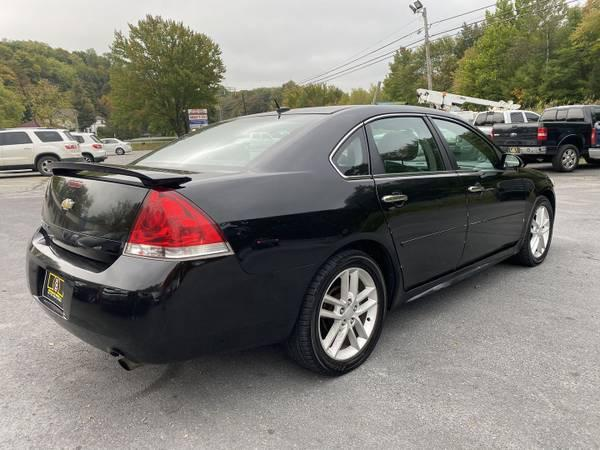Front_Right_Door: (458, 169, 528, 277)
Front_Right_Window: (428, 115, 522, 170)
Rear_Bumper: (24, 230, 324, 356)
Rear_Fender: (179, 124, 383, 270)
Rear_Right_Door: (376, 171, 471, 303)
Rear_Right_Window: (366, 115, 456, 177)
Rear_Windshield: (136, 115, 328, 169)
Right_Taillight: (40, 161, 234, 261), (121, 185, 237, 258)
Roof: (245, 105, 481, 171)
Wheel: (307, 252, 392, 372), (523, 198, 554, 263)
